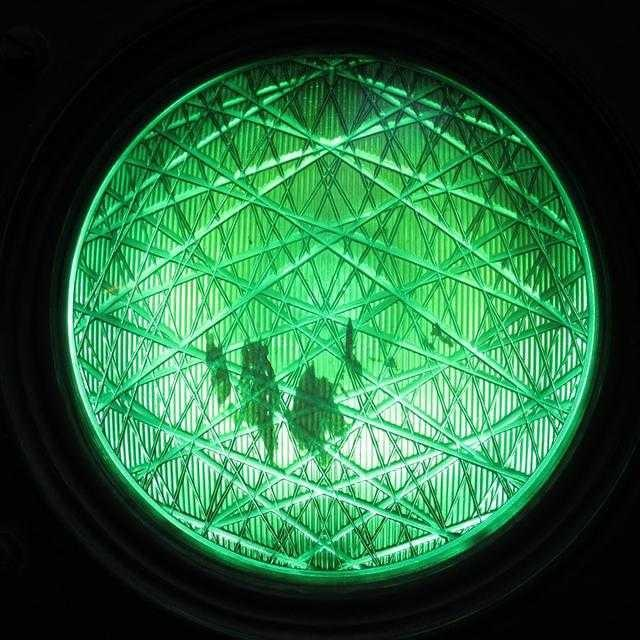red: (39, 15, 604, 608)
